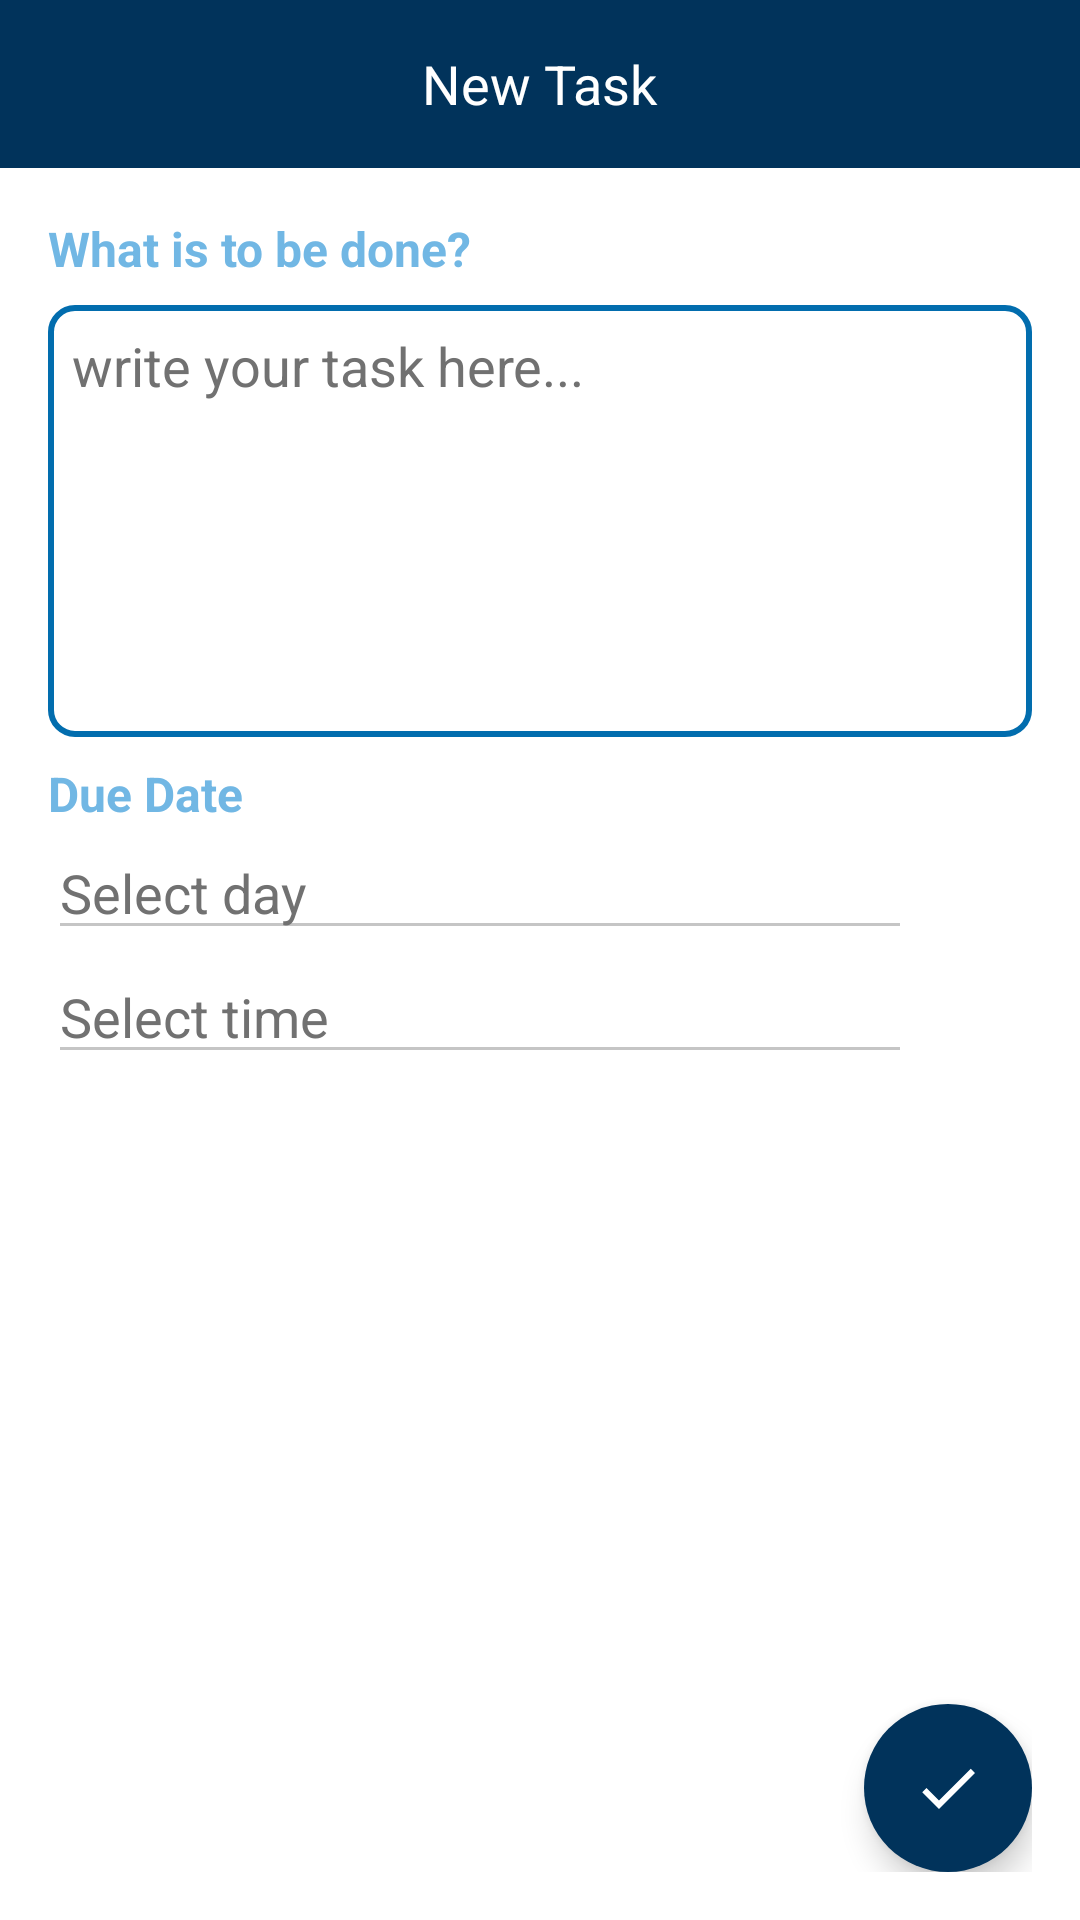

Locate icon controls on the screen. Image size 1080×1920, boxes as (x1, y1, x2, y2).
correct: (864, 1704, 1032, 1872)
